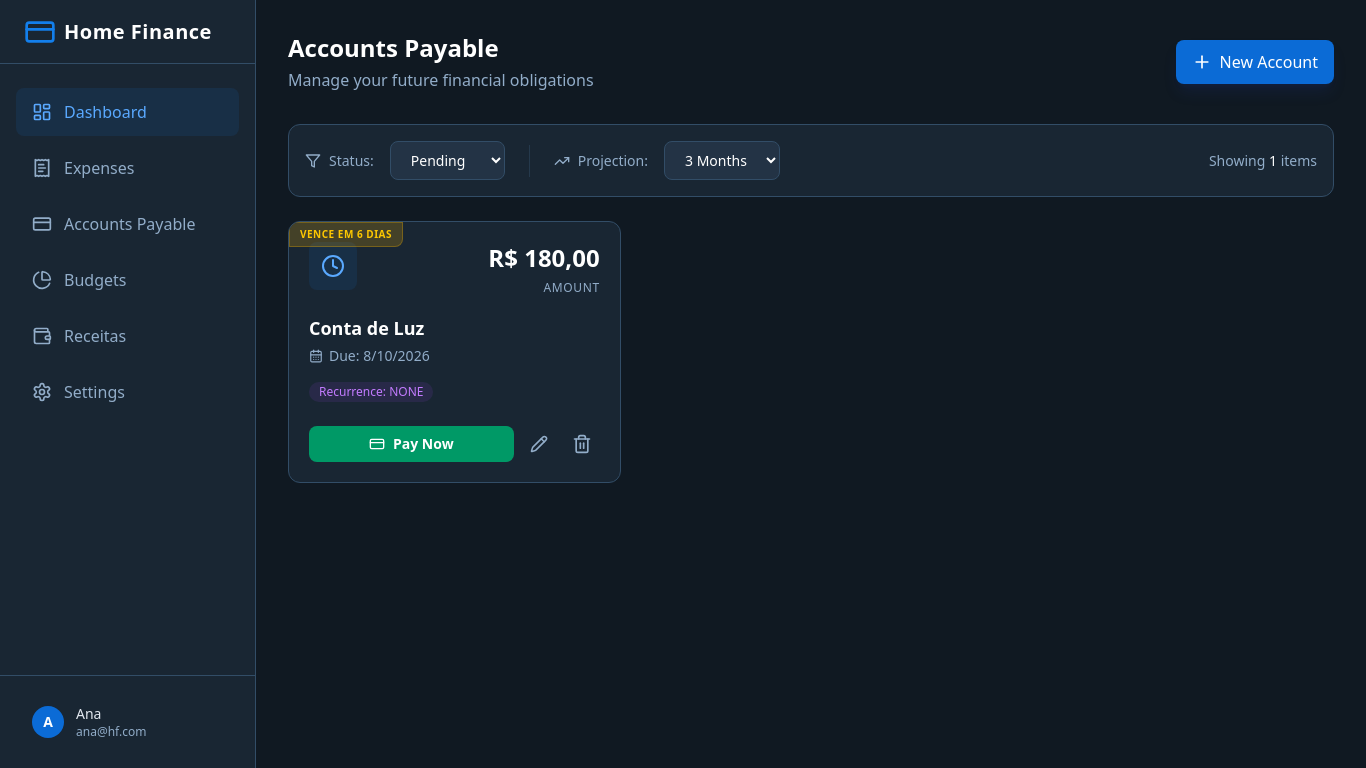
Scenario: AccountsPayable (integração) › abre o modal de edição de conta
Click the 3rd button.
click(539, 444)  # box [522,426,556,462]
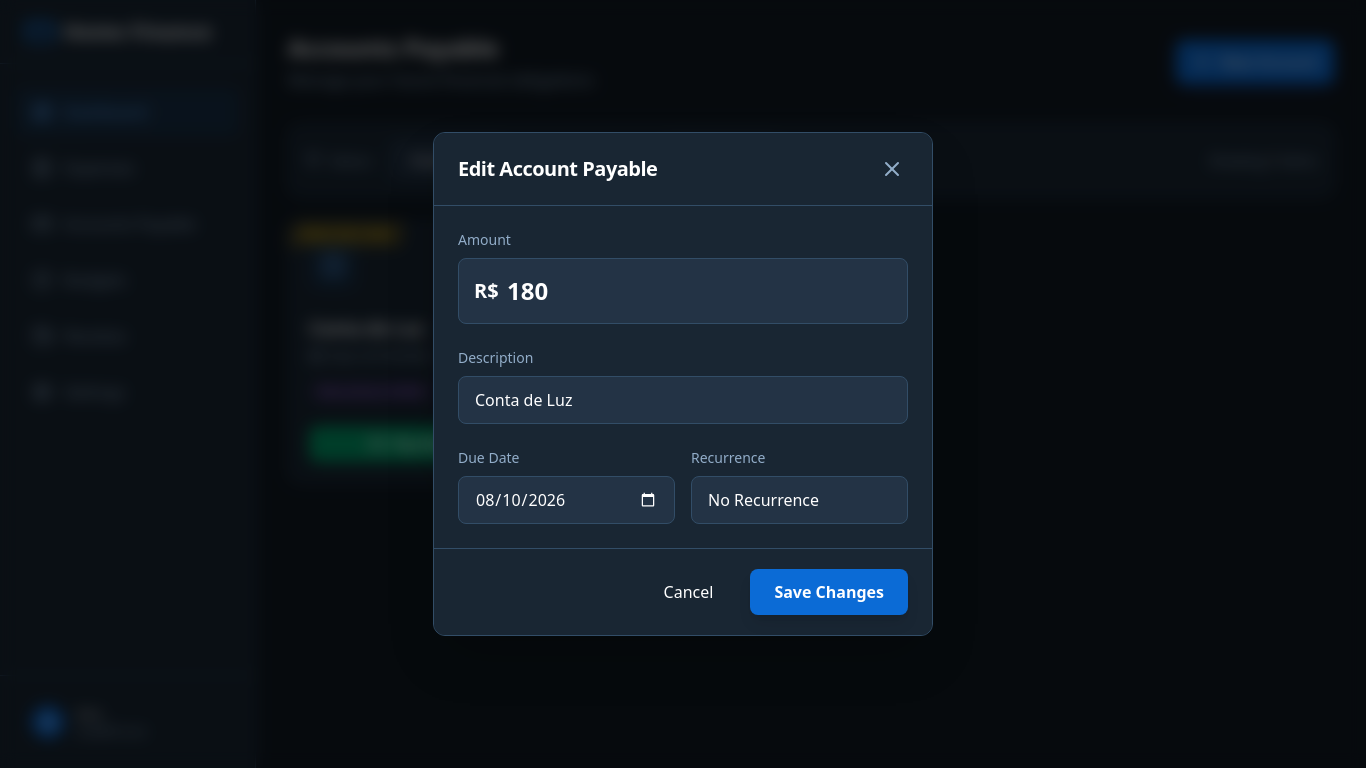
expect the heading "Edit Account Payable" is shown: met, box [458,155,657,183]
